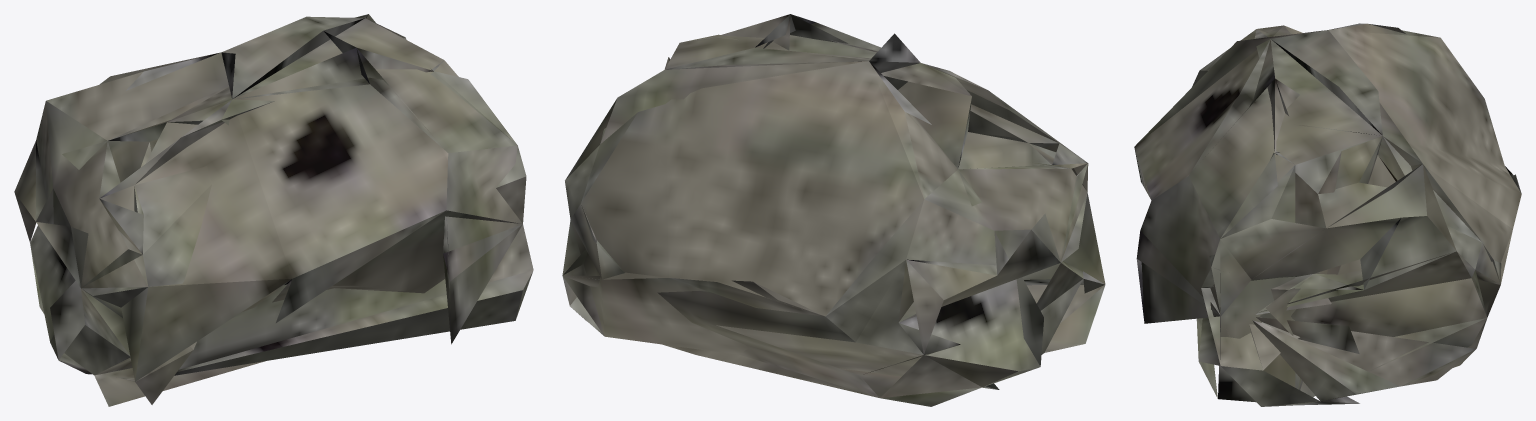
File: sandbags_285817317_lod1.glb
3 views of the same model, side by side, from view 1: azimuth 30°, elevation 25°; view 2: azimuth 150°, elevation 25°; view 3: azimuth 270°, elevation 25° (orthographic). The views are drawn at different scales.
Size of the model in its own units: 2.6 by 1.77 by 2.17.
1 material, 1 textured.
